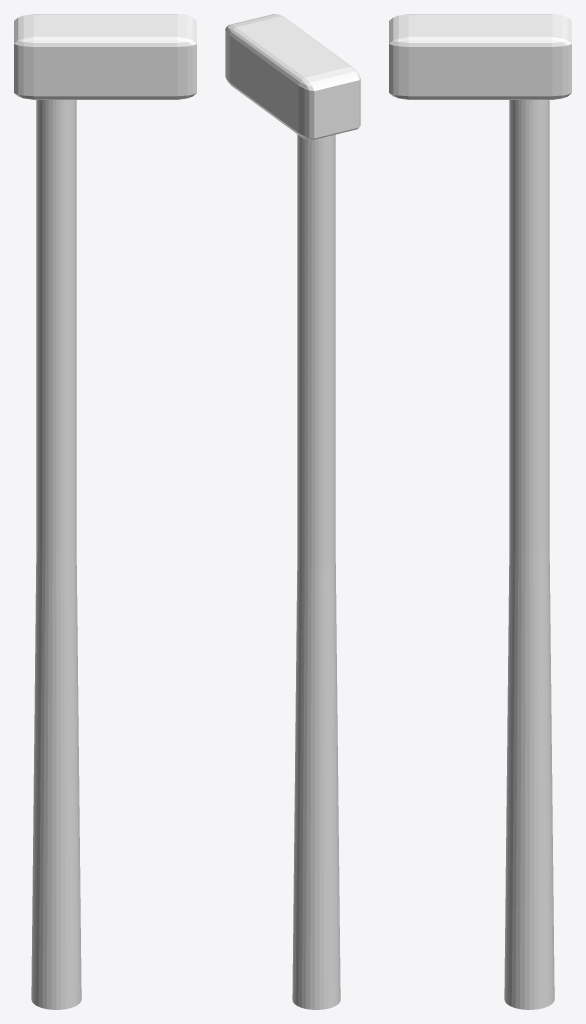
Rendered from wind_turbine_shaft.gltf.
The picture shows the model from 3 angles, left to right: view 1: azimuth 90°, elevation 25°; view 2: azimuth 210°, elevation 25°; view 3: azimuth 270°, elevation 25°; orthographic projection. The views are drawn at different scales.
Parts seen in each view (by area): view 1: shaft; view 2: shaft; view 3: shaft.
Boxes of the visible parts, x1,y1,x2,y2 form: shaft: (14,14,196,1009); shaft: (225,14,360,1009); shaft: (389,14,571,1009).
Bounding box in the file's own units: 1.03 × 16.03 × 2.73.
Materials: 1 (1 with a texture image).
